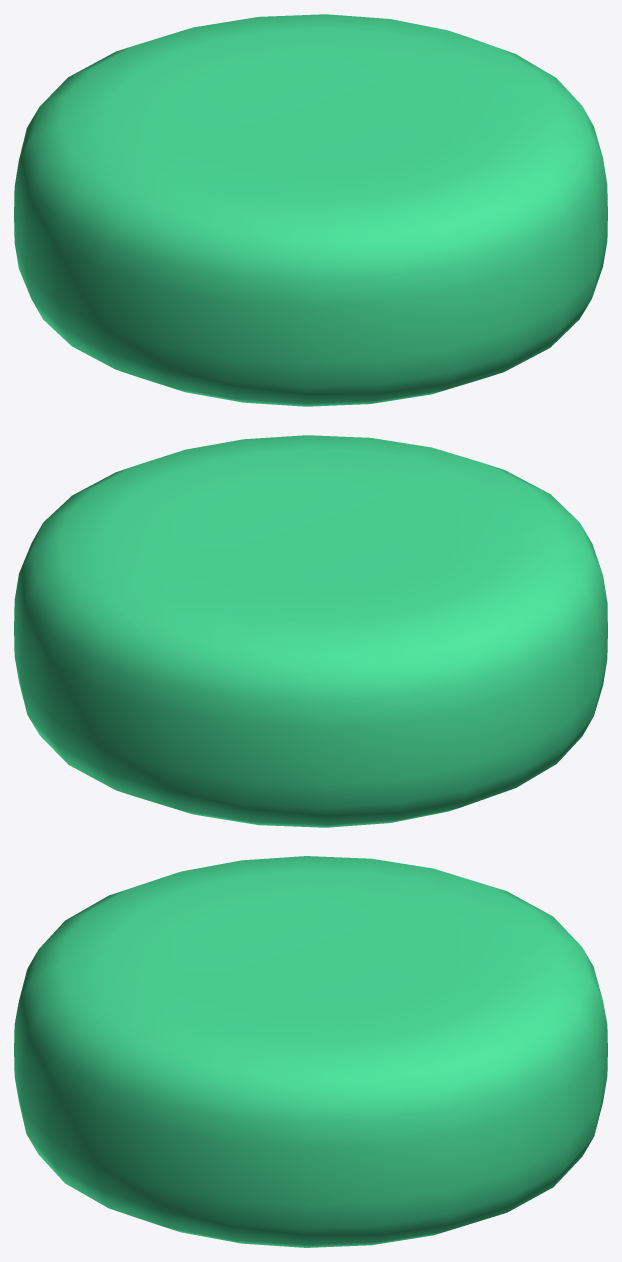
Rendered from Mint_C_02.fbx.
3 views of the same model, one above another, from view 1: azimuth 30°, elevation 25°; view 2: azimuth 150°, elevation 25°; view 3: azimuth 270°, elevation 25° (orthographic).
Visible parts, largest first — view 1: Mint_C_02_LOD0; view 2: Mint_C_02_LOD0; view 3: Mint_C_02_LOD0.
Part boxes in pixels (x1=…): Mint_C_02_LOD0: x1=14, y1=14, x2=607, y2=406; Mint_C_02_LOD0: x1=14, y1=435, x2=607, y2=827; Mint_C_02_LOD0: x1=14, y1=856, x2=607, y2=1247.
Size of what is drawn, in the model's own units: 326 by 116 by 326.
